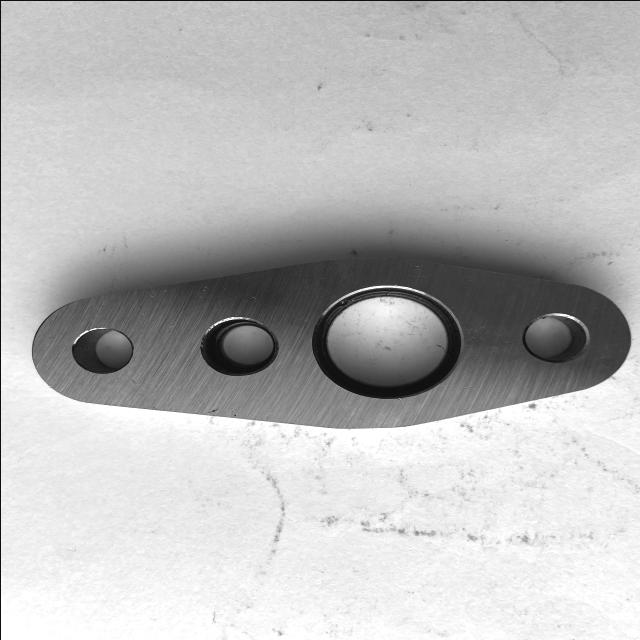chap: (459, 384, 477, 388), (395, 396, 402, 402)
lines: (206, 405, 222, 413)
